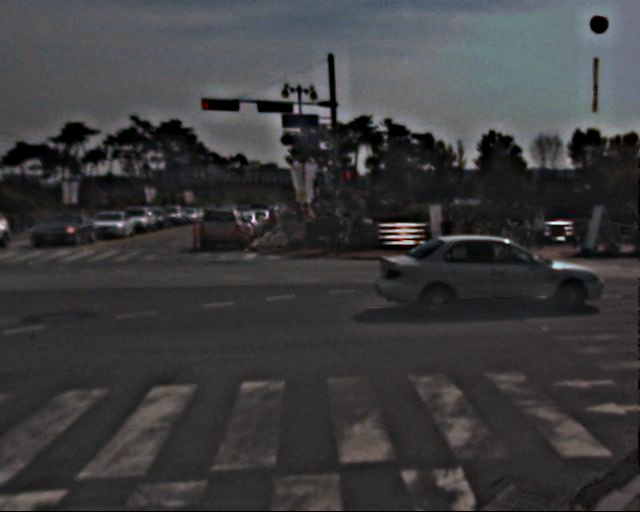person: (273, 204, 315, 247), (442, 211, 462, 259), (328, 205, 348, 253), (520, 213, 539, 260), (467, 210, 485, 255), (496, 217, 514, 262), (533, 211, 550, 252)
